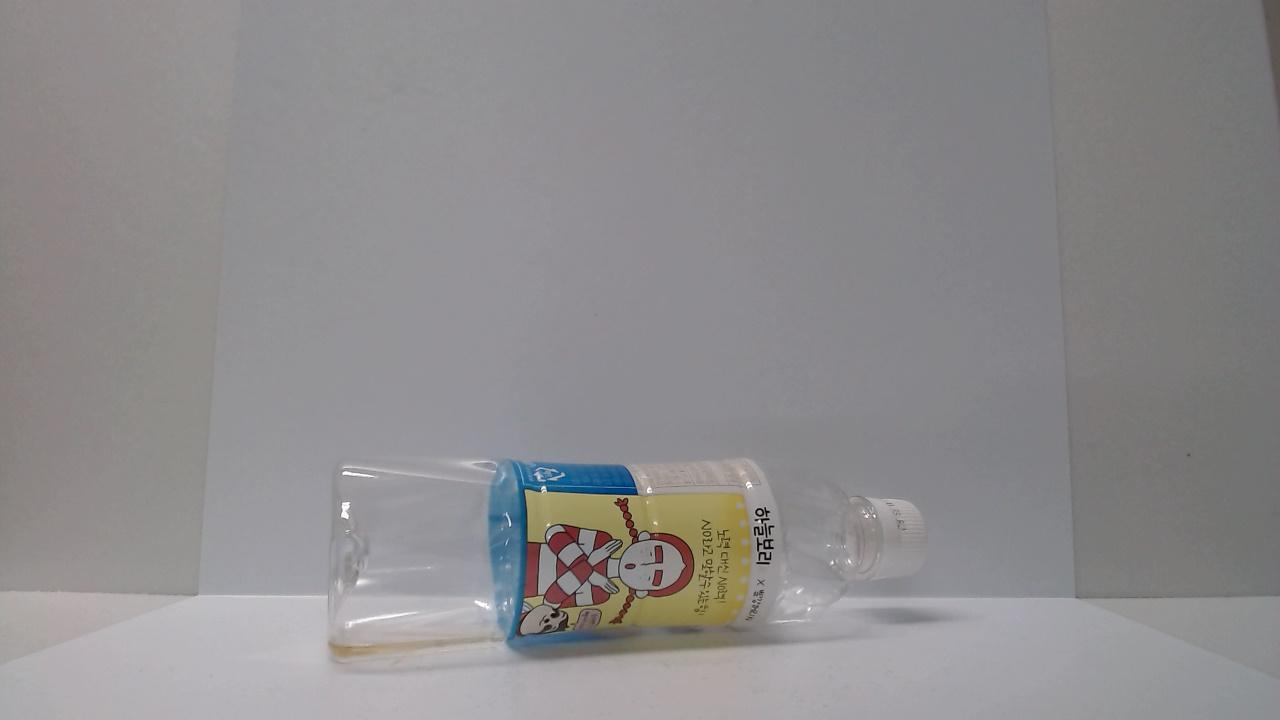bottle: (300, 415, 966, 683)
